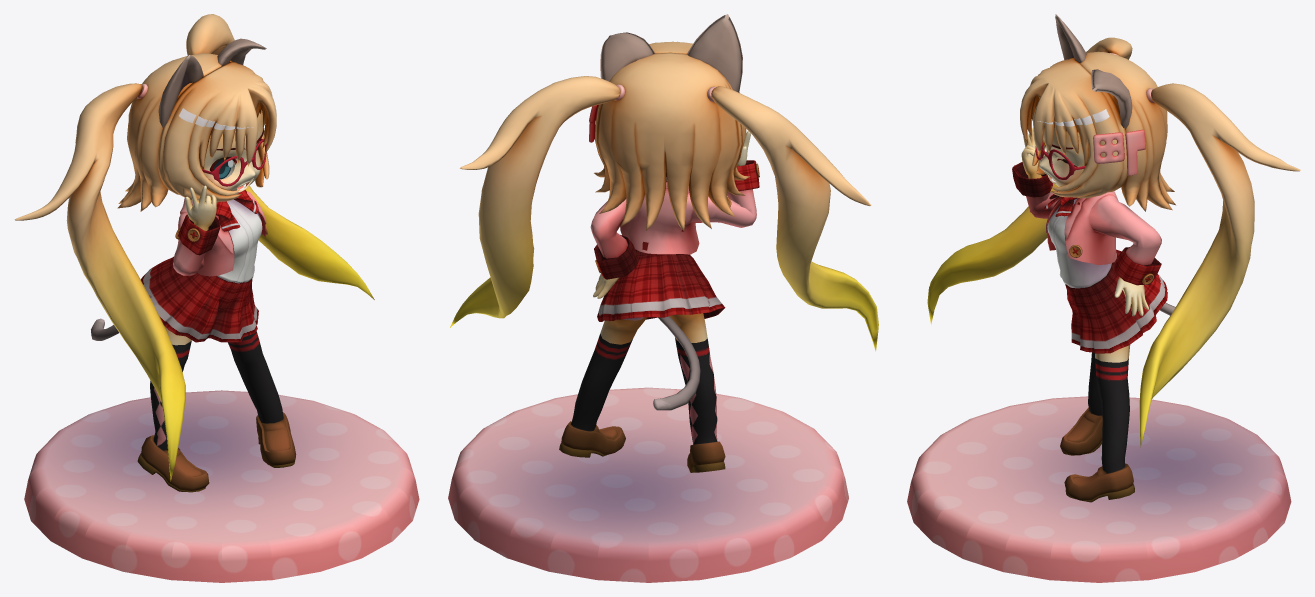
Rendered from madoka.FBX.
3 renders of one model, left to right at view 1: azimuth 30°, elevation 25°; view 2: azimuth 150°, elevation 25°; view 3: azimuth 270°, elevation 25°, orthographic. The views are drawn at different scales.
Visible parts, largest first — view 1: UV_group_3_base, hair__UV_group_2_twin_tails_Tail_R, hair__UV_group_2_polySurface196_hair_front, UV_group_1_polySurface188_polySurface187_body_, UV_group_1_polySurface179_skirt_, hair__UV_group_2_Tail_L_twin_tails, hair__UV_group_2_polySurface151_hair_back_, UV_group_1_borelo__polySurface197, polySurface136_shirts__UV_group_1, polySurface195_big_ears_hair__UV_group_2, head__UV_group_3_polySurface153_head_main_, UV_group_1_body__polySurface194 (+2 smaller); view 2: UV_group_3_base, hair__UV_group_2_polySurface151_hair_back_, hair__UV_group_2_Tail_L_twin_tails, hair__UV_group_2_twin_tails_Tail_R, UV_group_1_polySurface188_polySurface187_body_, UV_group_1_polySurface179_skirt_, polySurface195_big_ears_hair__UV_group_2, modelPanel4ViewSelectedSet1_modelPanel4ViewSelectedSet2_UV_g, UV_group_1_borelo__polySurface197, UV_group_1_tails__others_, modelPanel4ViewSelectedSet2_UV_group_1_borelo__polySurface19, UV_group_1_body__polySurface194; view 3: UV_group_3_base, hair__UV_group_2_Tail_L_twin_tails, hair__UV_group_2_polySurface196_hair_front, UV_group_1_polySurface188_polySurface187_body_, modelPanel4ViewSelectedSet1_modelPanel4ViewSelectedSet2_UV_g, hair__UV_group_2_polySurface151_hair_back_, UV_group_1_polySurface179_skirt_, hair__UV_group_2_twin_tails_Tail_R, polySurface195_big_ears_hair__UV_group_2, polySurface136_shirts__UV_group_1, UV_group_1_borelo__polySurface197, UV_group_1_acce_ (+2 smaller).
Boxes of the visible parts, x1=… form: UV_group_3_base: x1=24, y1=390, x2=419, y2=582; hair__UV_group_2_twin_tails_Tail_R: x1=14, y1=83, x2=185, y2=481; hair__UV_group_2_polySurface196_hair_front: x1=157, y1=61, x2=276, y2=202; UV_group_1_polySurface188_polySurface187_body_: x1=137, y1=325, x2=296, y2=492; UV_group_1_polySurface179_skirt_: x1=141, y1=256, x2=258, y2=342; hair__UV_group_2_Tail_L_twin_tails: x1=186, y1=14, x2=374, y2=299; hair__UV_group_2_polySurface151_hair_back_: x1=117, y1=53, x2=232, y2=211; UV_group_1_borelo__polySurface197: x1=173, y1=198, x2=234, y2=276; polySurface136_shirts__UV_group_1: x1=217, y1=199, x2=262, y2=283; polySurface195_big_ears_hair__UV_group_2: x1=158, y1=38, x2=266, y2=127; head__UV_group_3_polySurface153_head_main_: x1=198, y1=110, x2=263, y2=194; UV_group_1_body__polySurface194: x1=185, y1=185, x2=216, y2=230; UV_group_3_base: x1=448, y1=387, x2=848, y2=582; hair__UV_group_2_polySurface151_hair_back_: x1=594, y1=52, x2=750, y2=231; hair__UV_group_2_Tail_L_twin_tails: x1=450, y1=76, x2=620, y2=327; hair__UV_group_2_twin_tails_Tail_R: x1=711, y1=86, x2=878, y2=351; UV_group_1_polySurface188_polySurface187_body_: x1=559, y1=313, x2=725, y2=472; UV_group_1_polySurface179_skirt_: x1=597, y1=249, x2=725, y2=321; polySurface195_big_ears_hair__UV_group_2: x1=600, y1=14, x2=742, y2=92; modelPanel4ViewSelectedSet1_modelPanel4ViewSelectedSet2_UV_g: x1=590, y1=181, x2=667, y2=279; UV_group_1_borelo__polySurface197: x1=674, y1=160, x2=759, y2=254; UV_group_1_tails__others_: x1=653, y1=316, x2=700, y2=410; modelPanel4ViewSelectedSet2_UV_group_1_borelo__polySurface19: x1=658, y1=190, x2=682, y2=254; UV_group_1_body__polySurface194: x1=593, y1=131, x2=750, y2=298; UV_group_3_base: x1=907, y1=396, x2=1291, y2=582; hair__UV_group_2_Tail_L_twin_tails: x1=1139, y1=83, x2=1300, y2=447; hair__UV_group_2_polySurface196_hair_front: x1=1020, y1=58, x2=1127, y2=198; UV_group_1_polySurface188_polySurface187_body_: x1=1060, y1=345, x2=1134, y2=502; modelPanel4ViewSelectedSet1_modelPanel4ViewSelectedSet2_UV_g: x1=1064, y1=191, x2=1161, y2=285; hair__UV_group_2_polySurface151_hair_back_: x1=1073, y1=51, x2=1175, y2=211; UV_group_1_polySurface179_skirt_: x1=1065, y1=249, x2=1167, y2=353; hair__UV_group_2_twin_tails_Tail_R: x1=927, y1=37, x2=1132, y2=324; polySurface195_big_ears_hair__UV_group_2: x1=1055, y1=14, x2=1132, y2=129; polySurface136_shirts__UV_group_1: x1=1047, y1=198, x2=1111, y2=288; UV_group_1_borelo__polySurface197: x1=1012, y1=162, x2=1062, y2=250; UV_group_1_acce_: x1=1093, y1=129, x2=1145, y2=175.
Size of the model in its own units: 17.38 by 20.31 by 15.71.
3 materials, 3 textured.
